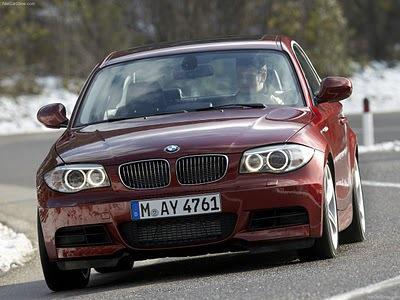Car: (18, 26, 384, 299)
